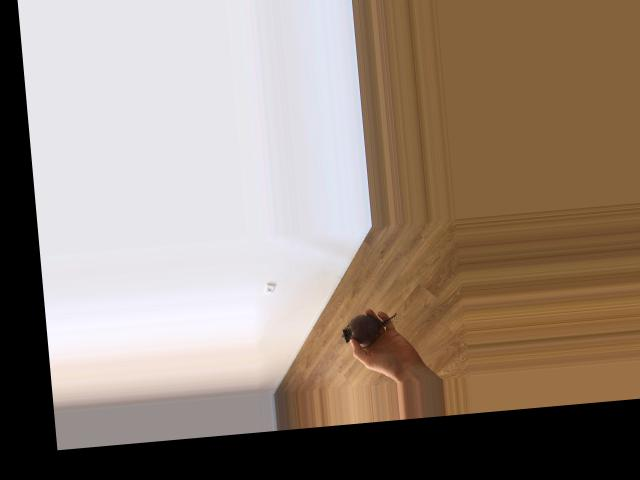beet: (341, 310, 398, 348)
